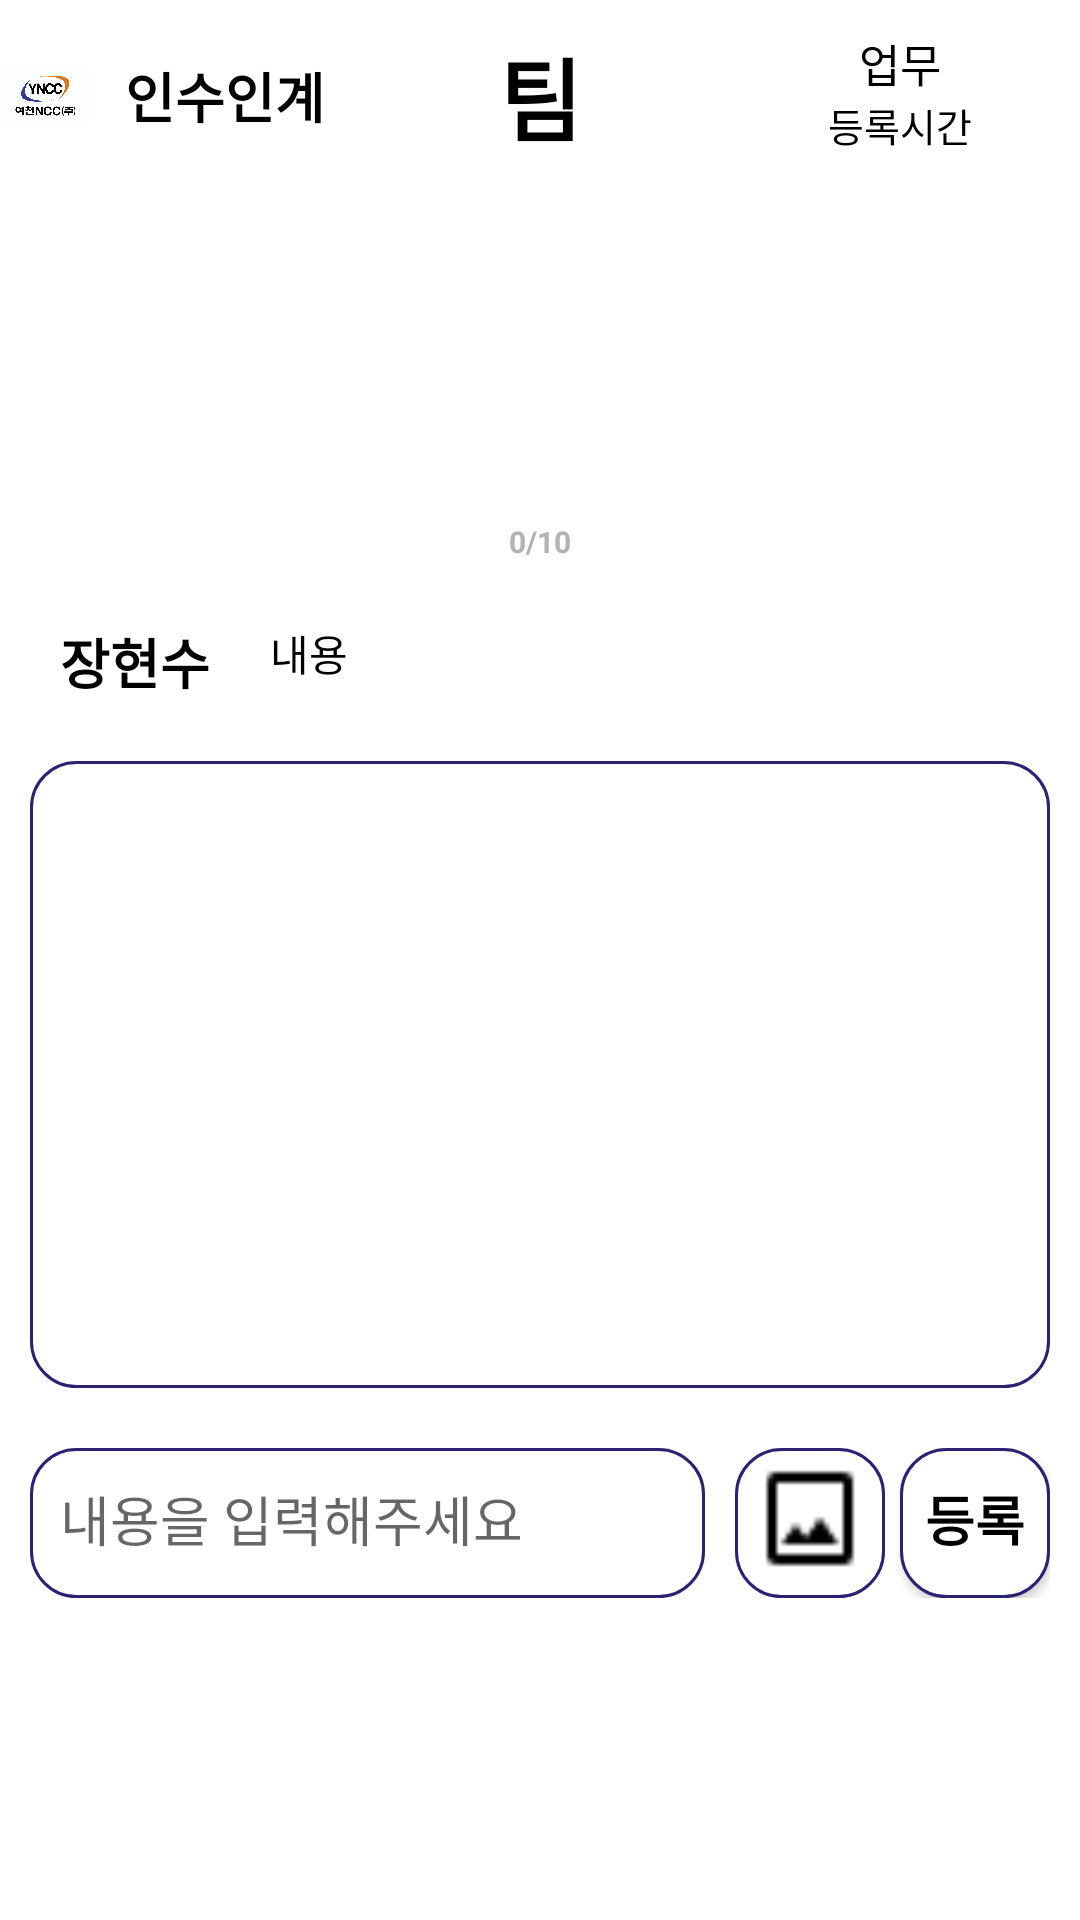

Named icons in this screenshot (1080×1920) and their centers, [x,y]:
photo: [810,1523]
